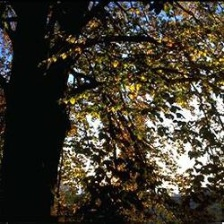neutral: (10, 2, 224, 214)
